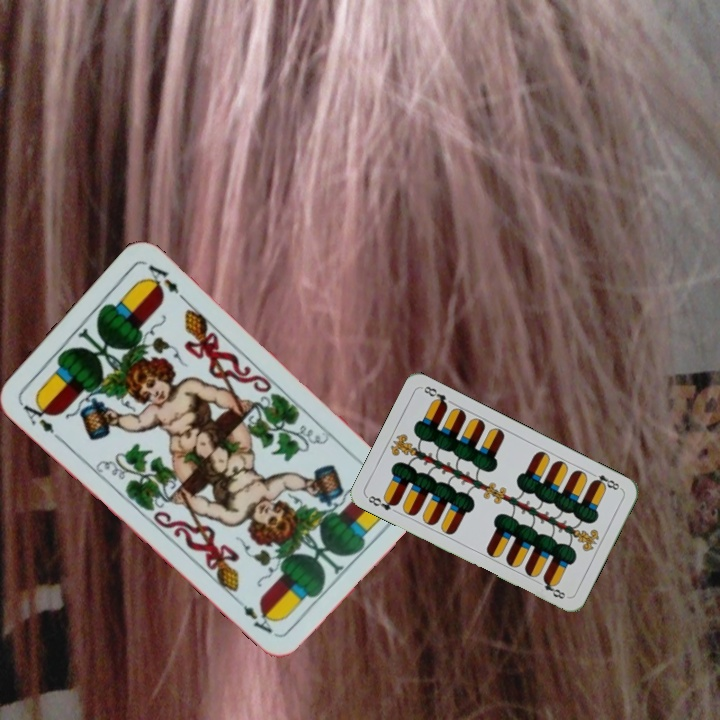E8: (587, 468, 624, 493), (363, 491, 401, 513)
EA: (19, 396, 57, 436)
